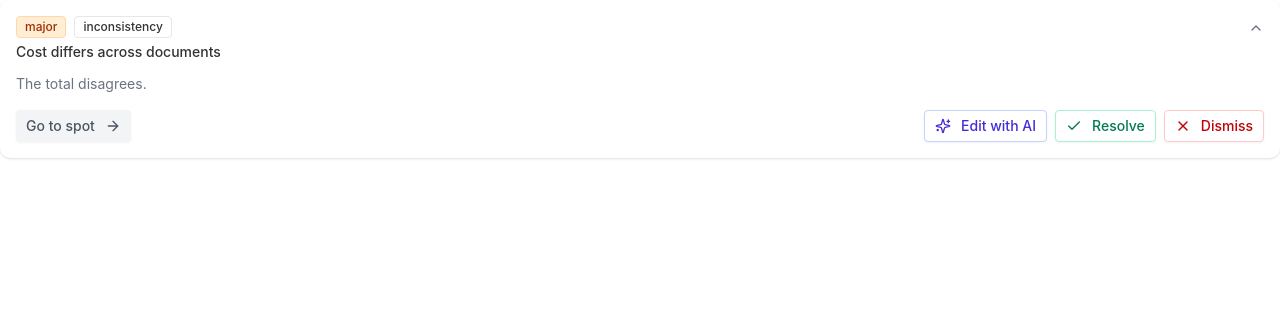
Test: FindingCard — Edit with AI › toggles the button label between "Edit with AI" and "Hide AI editor"
This screenshot has width=1280, height=330.
Click the button "Edit with AI" at (986,126), box [924,110,1047,142]
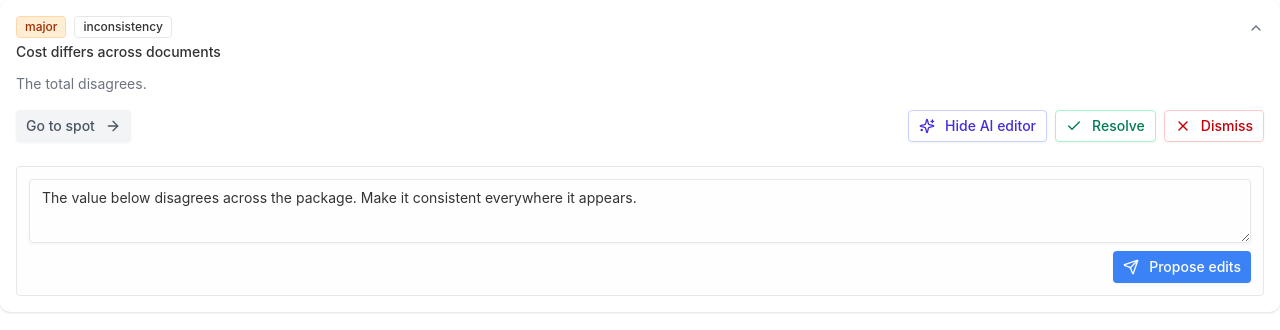
Now the button "Hide AI editor" is shown, box [908,110,1047,142]
